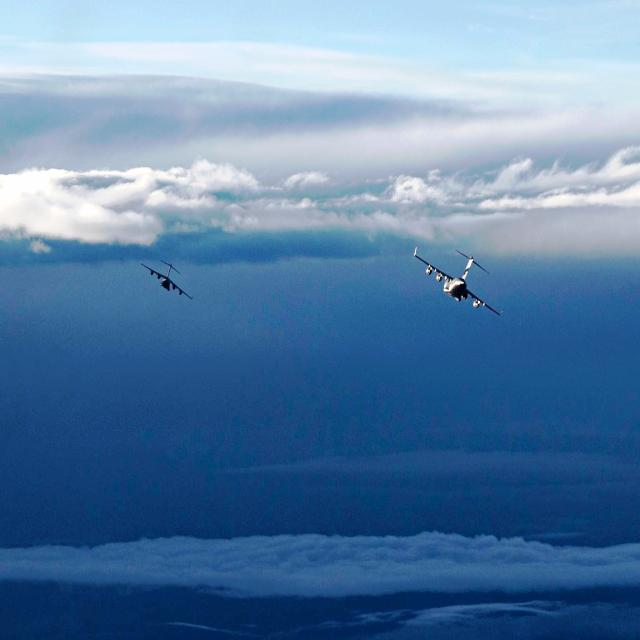Aircraft: (412, 245, 500, 315), (140, 260, 191, 298)
